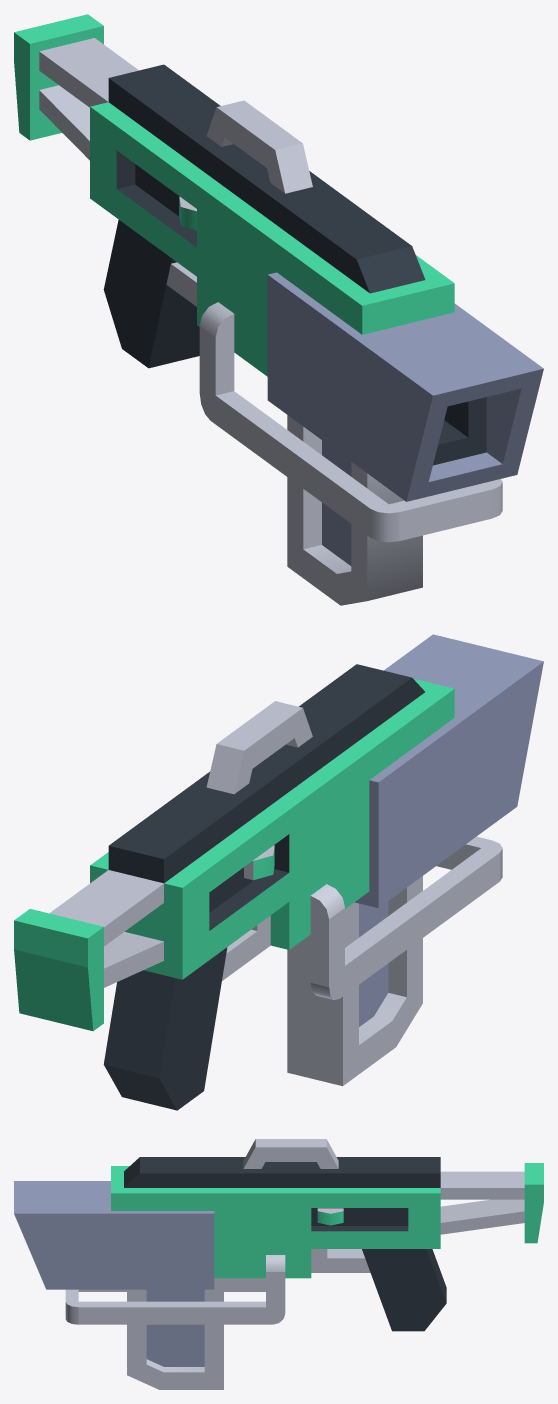
The model's file is blasterR.glb.
3 renders of one model, top to bottom at view 1: azimuth 30°, elevation 25°; view 2: azimuth 150°, elevation 25°; view 3: azimuth 270°, elevation 25°, orthographic. The views are drawn at different scales.
Visible parts, largest first — view 1: blasterR; view 2: blasterR; view 3: blasterR.
Boxes of the visible parts, x1,y1,x2,y2 form: blasterR: [14, 14, 543, 605]; blasterR: [14, 634, 543, 1110]; blasterR: [14, 1139, 543, 1389].
Bounding box in the file's own units: 0.14 × 0.4075 × 0.82.
